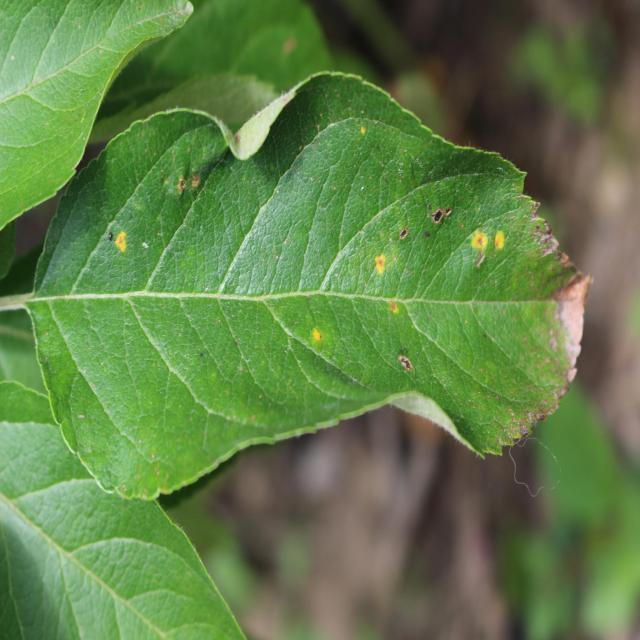Rust: (365, 243, 391, 289), (467, 222, 490, 262), (107, 218, 129, 258), (491, 219, 510, 262), (310, 317, 328, 361), (388, 294, 403, 316), (355, 120, 368, 144)
